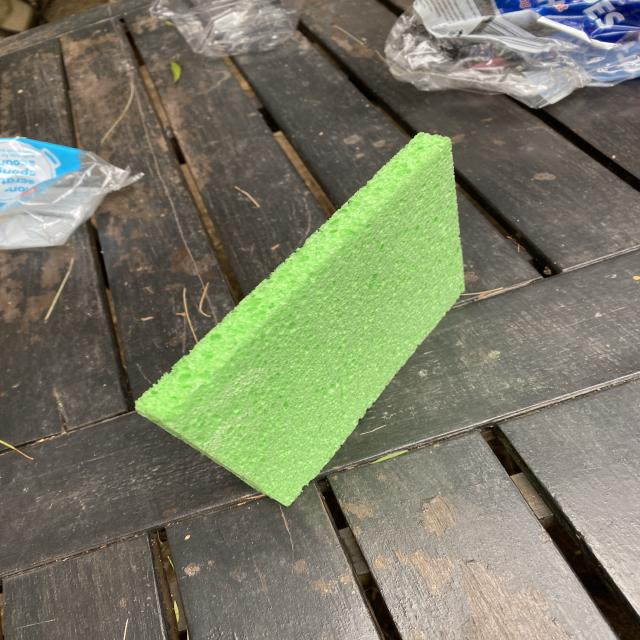sponge: (133, 133, 467, 504)
wrappers: (385, 0, 640, 108), (0, 136, 144, 250)
